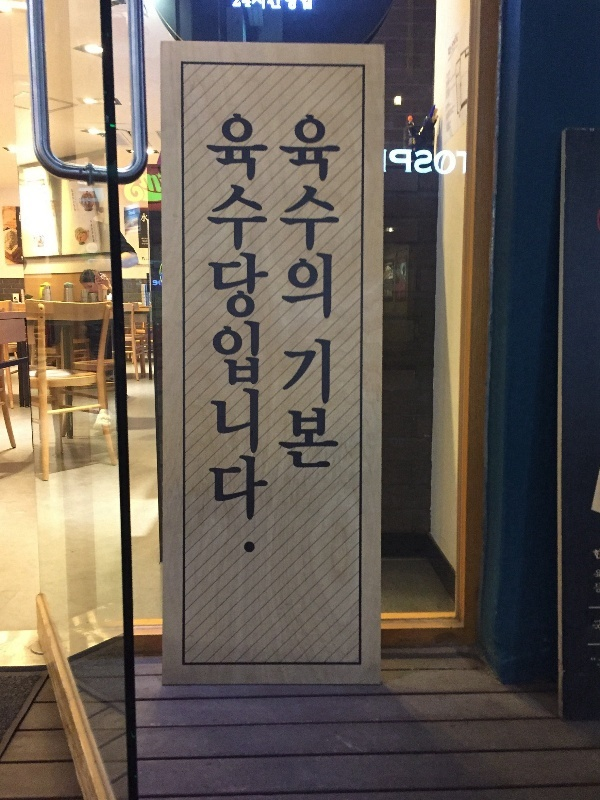text: (209, 110, 224, 558), (225, 110, 240, 558), (241, 110, 256, 558), (257, 110, 271, 558), (289, 110, 304, 475), (305, 110, 320, 475), (321, 110, 336, 475), (279, 110, 288, 475), (337, 110, 341, 475), (205, 110, 208, 558), (594, 548, 600, 670), (401, 143, 416, 180), (417, 143, 432, 180), (433, 143, 448, 180), (449, 143, 464, 180), (145, 172, 160, 202), (388, 143, 400, 180), (139, 172, 144, 202), (465, 143, 468, 180), (141, 213, 144, 225), (145, 213, 148, 225), (161, 172, 162, 202)
